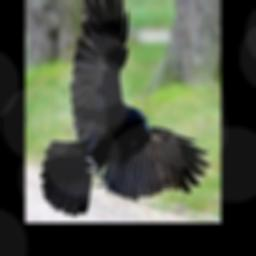Crow: (41, 0, 212, 215)
